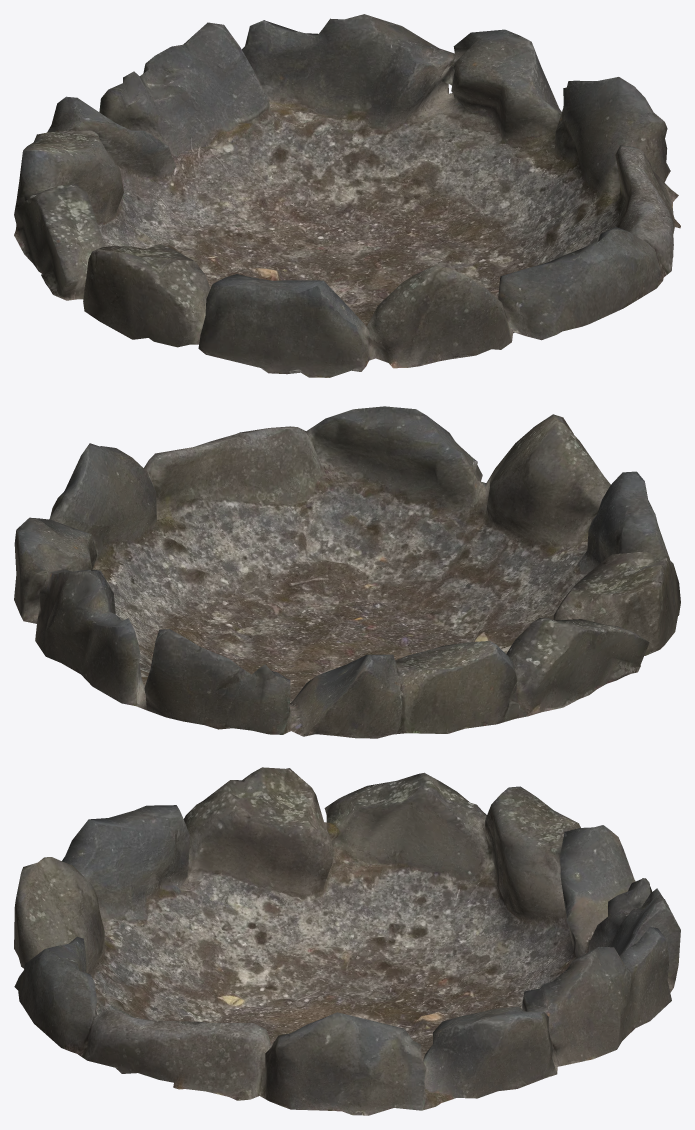
File: campfire.glb
3 views of the same model, one above another, from view 1: azimuth 30°, elevation 25°; view 2: azimuth 150°, elevation 25°; view 3: azimuth 270°, elevation 25° (orthographic).
Visible parts, largest first — view 1: stone_fire_pit; view 2: stone_fire_pit; view 3: stone_fire_pit.
Part boxes in pixels (left/top/right/bottom): stone_fire_pit: left=14, top=14, right=680, bottom=377; stone_fire_pit: left=14, top=406, right=680, bottom=738; stone_fire_pit: left=14, top=767, right=680, bottom=1115.
Bounding box in the file's own units: 1.45 × 0.3883 × 1.43.
1 material, 1 textured.
